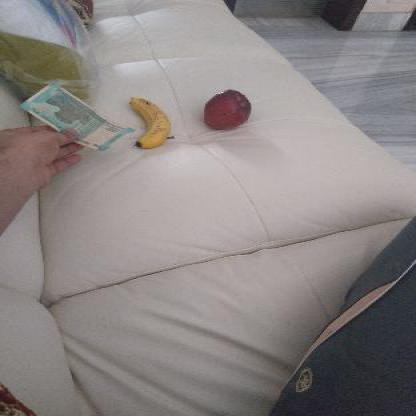New50Back: (22, 81, 135, 150)
